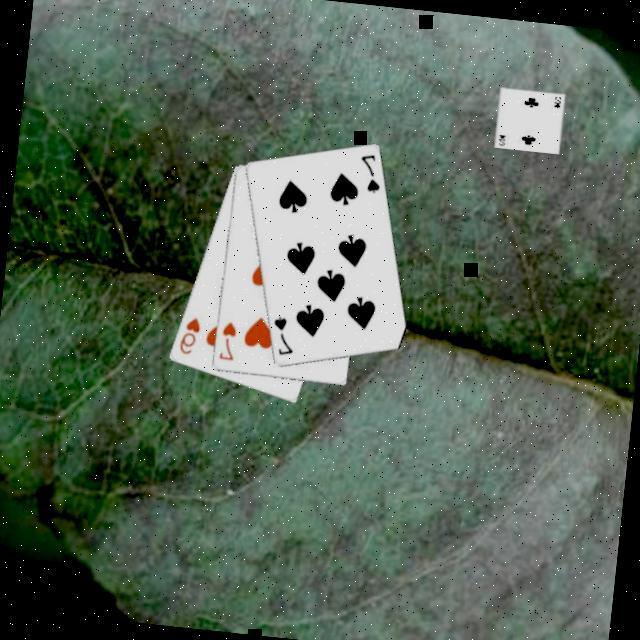6H: (176, 311, 204, 356)
7H: (216, 316, 240, 362)
7S: (268, 311, 301, 359), (354, 148, 387, 196)
